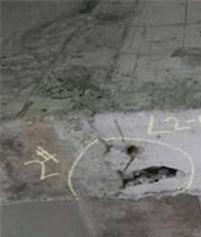Exposed reinforcement: (122, 154, 135, 172)
Spalling: (117, 165, 180, 190)
